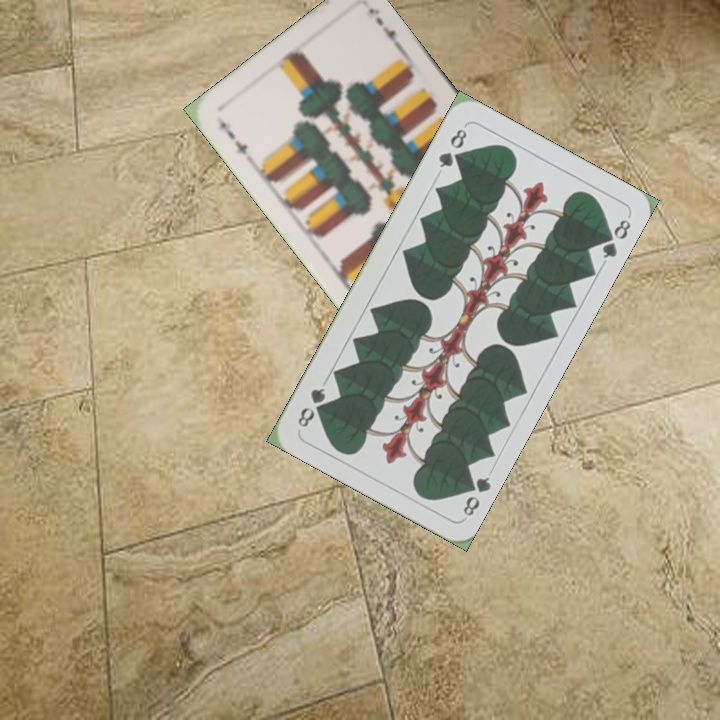E7: (213, 117, 251, 158)
G8: (434, 122, 470, 171), (458, 472, 493, 519)
